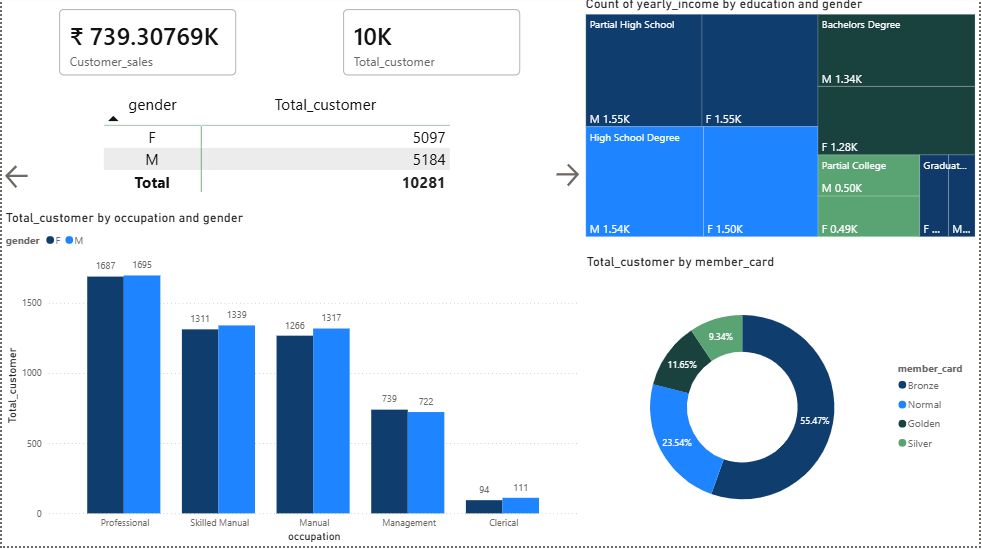

This screenshot's page, from the dashboard's own definition file:
{"tool":"powerbi","page":{"name":"customer insights page","canvas":[1280,720],"ordinal":4},"visuals":[{"type":"donutChart","fields":{"Category":["Customers.member_card"],"Y":["Customers.Total_customer"]},"box":[760,338,520,382],"z":0},{"type":"clusteredColumnChart","fields":{"Category":["Customers.occupation"],"Y":["Customers.Total_customer"],"Series":["Customers.gender"]},"box":[0,279.5,761,440.5],"z":1000},{"type":"pivotTable","fields":{"Rows":["Customers.gender"],"Values":["Customers.Total_customer"]},"box":[128.8,121.5,502,150.7],"z":2000},{"type":"treemap","fields":{"Group":["Customers.education"],"Details":["Customers.gender"],"Values":["CountNonNull(Customers.yearly_income)"]},"box":[759.5,0,519.5,320.5],"z":3000},{"type":"cardVisual","fields":{"Data":["Customers.Total_customer"]},"box":[428.8,0,266.3,121.5],"z":4000},{"type":"cardVisual","fields":{"Data":["Customers.Customer_sales"]},"box":[57.5,0,266.2,121.2],"z":5000},{"type":"actionButton","box":[0,215.1,39.5,43.9],"z":6000},{"type":"actionButton","box":[720,215.1,39.5,39.5],"z":7000}]}

Visuals, with their boxes in screenshot pixels (x1, y1, x2, y2), scaled from the page's 1280x720 canvas onto the 982x549 screenshot:
donutChart - Customers.member_card x Customers.Total_customer: (583, 258, 981, 548)
clusteredColumnChart - Customers.occupation x Customers.Total_customer: (0, 213, 584, 548)
pivotTable - Customers.gender x Customers.Total_customer: (99, 93, 484, 208)
treemap - Customers.education x Customers.gender: (583, 0, 981, 244)
cardVisual - Customers.Total_customer: (329, 0, 533, 93)
cardVisual - Customers.Customer_sales: (44, 0, 248, 92)
actionButton: (0, 164, 30, 197)
actionButton: (552, 164, 583, 194)
